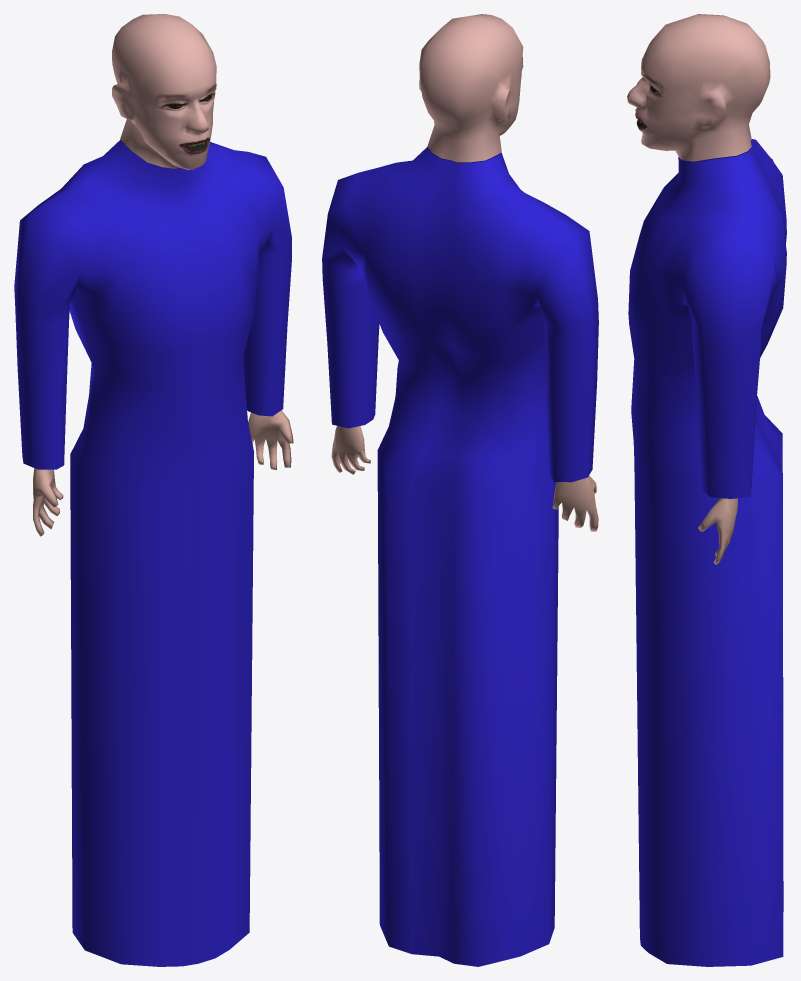
The model's file is gownfirgure2.dae.
The picture shows the model from 3 angles, left to right: view 1: azimuth 30°, elevation 25°; view 2: azimuth 150°, elevation 25°; view 3: azimuth 270°, elevation 25°; orthographic projection.
Visible parts, largest first — view 1: base_human_male_default_001; view 2: base_human_male_default_001; view 3: base_human_male_default_001.
Boxes of the visible parts, <box> form: base_human_male_default_001: <box>14,14,293,966</box>; base_human_male_default_001: <box>322,14,598,966</box>; base_human_male_default_001: <box>627,14,786,966</box>.
Size of the model in its own units: 0.2313 by 0.1194 by 0.7586.
4 materials, 1 textured.
